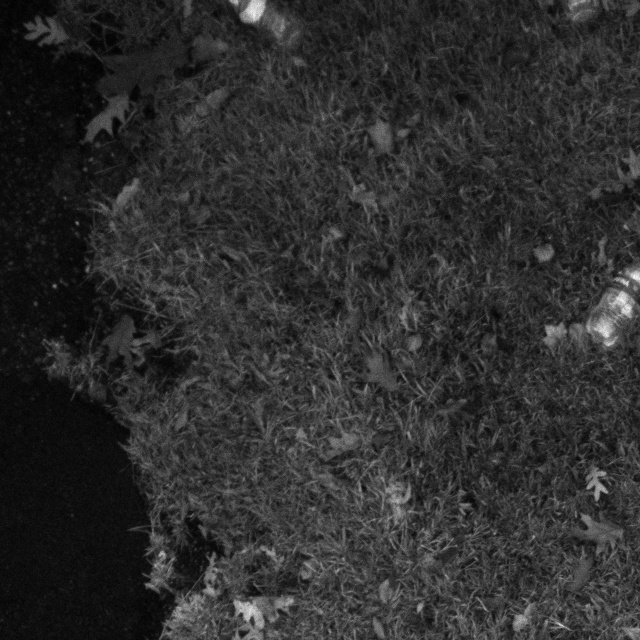bottle: (576, 252, 640, 343)
